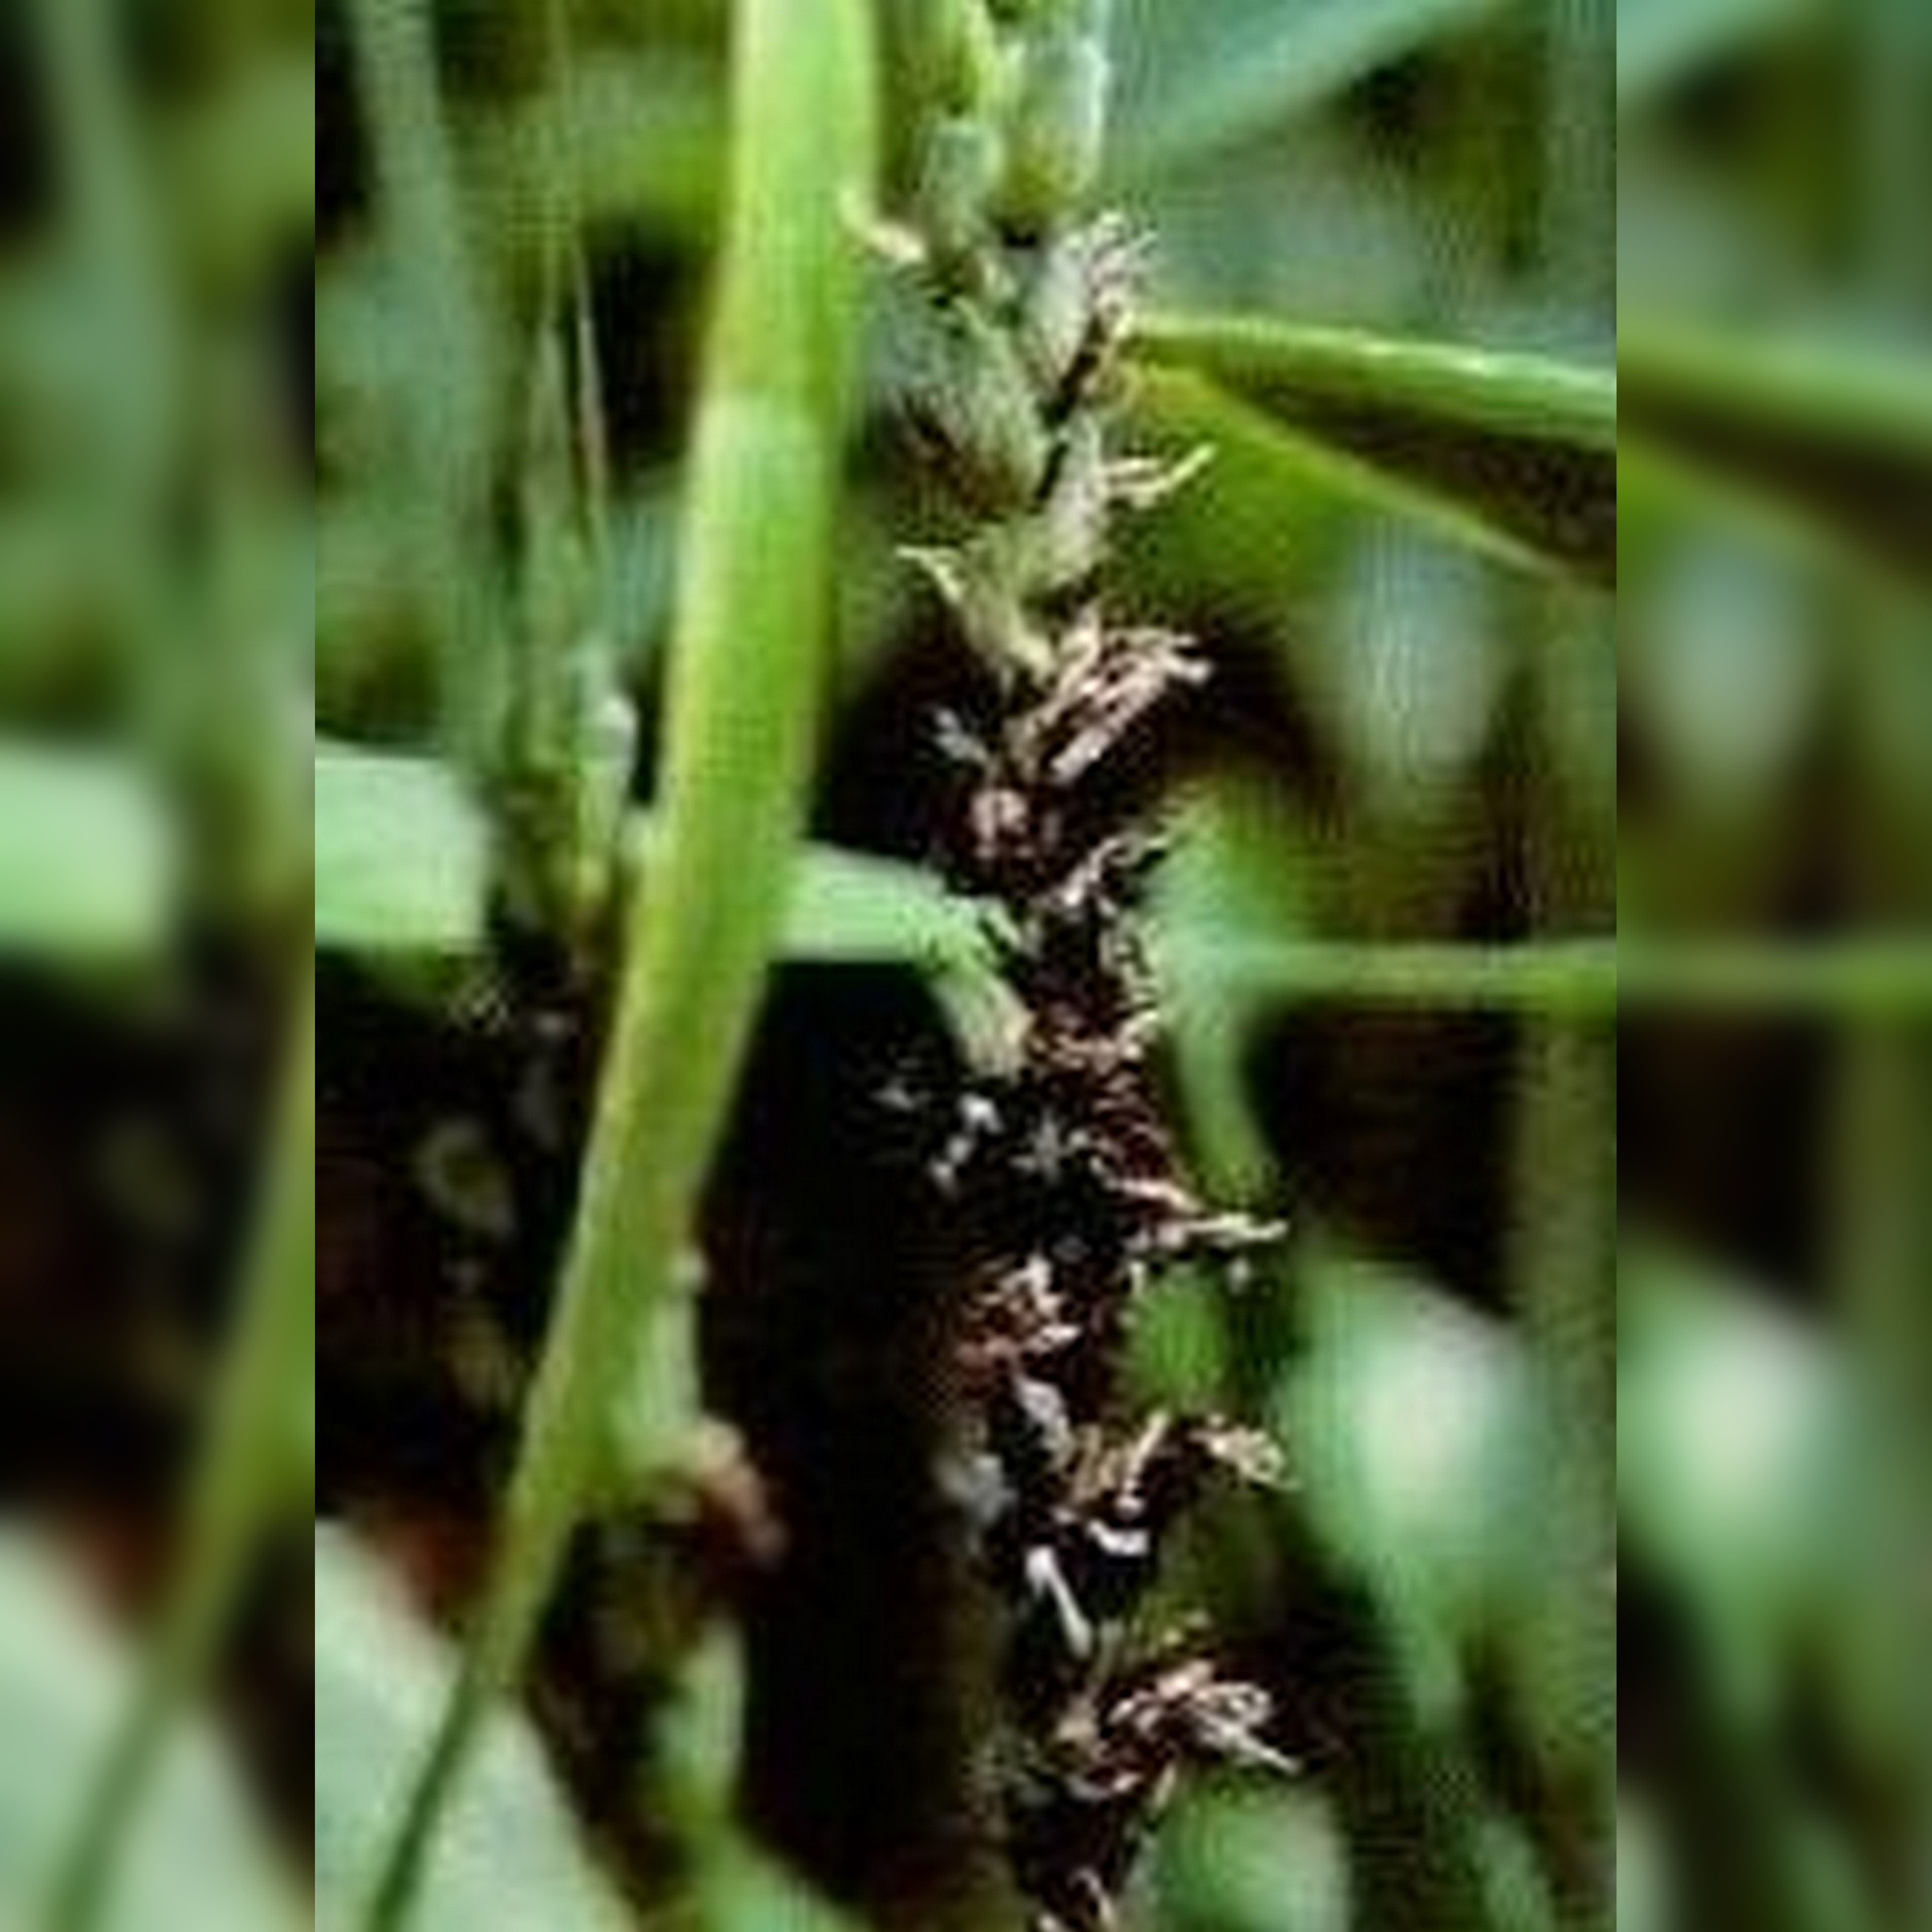Wheat Loose Smut: (890, 426, 1313, 1874)
